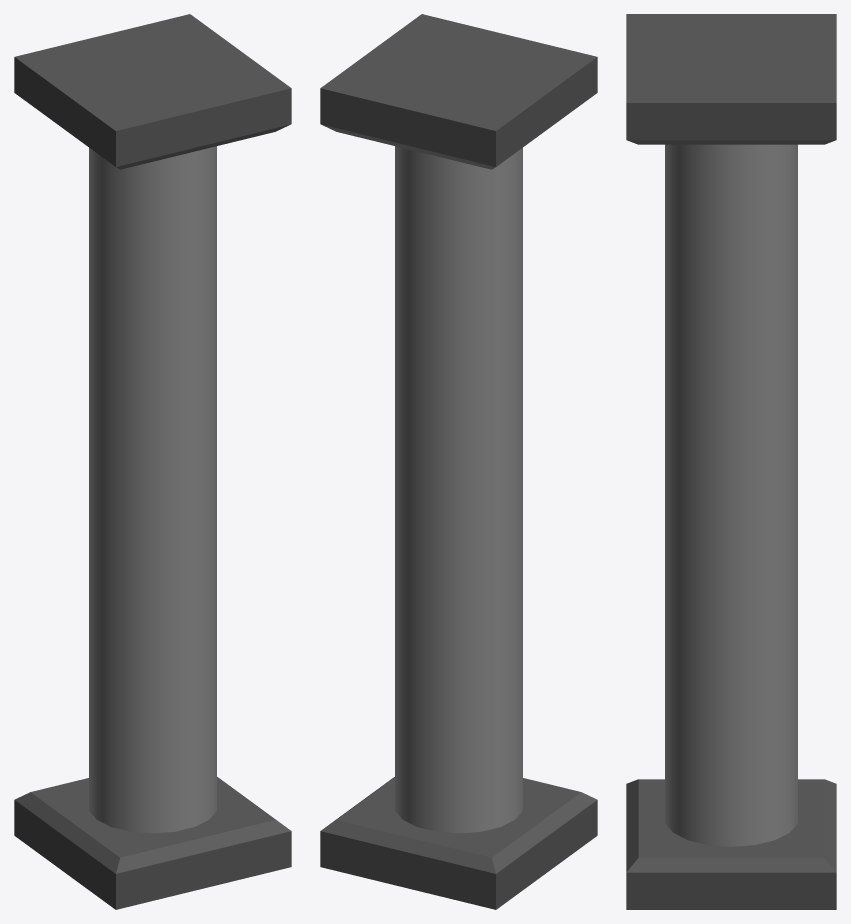
File: Pillar.FBX
3 views of the same model, side by side, from view 1: azimuth 30°, elevation 25°; view 2: azimuth 150°, elevation 25°; view 3: azimuth 270°, elevation 25° (orthographic). The views are drawn at different scales.
Parts seen in each view (by area): view 1: Pillar001; view 2: Pillar001; view 3: Pillar001.
Part boxes in pixels (bbox=[...]): Pillar001: bbox=[14, 14, 291, 909]; Pillar001: bbox=[320, 14, 597, 909]; Pillar001: bbox=[626, 14, 836, 909].
Bounding box in the file's own units: 94.45 × 400 × 94.45.
